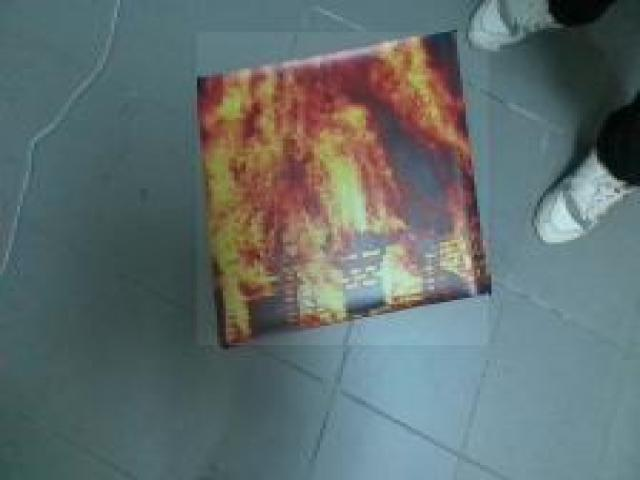fire-poster: (192, 28, 497, 349)
